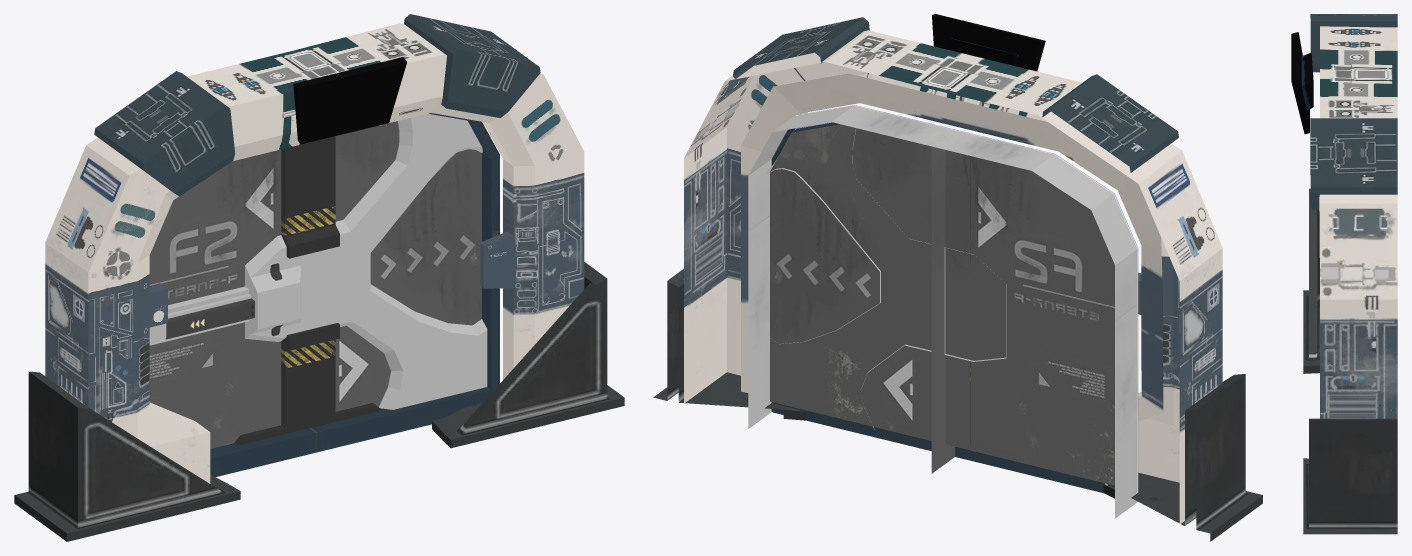
The picture shows the model from 3 angles, left to right: view 1: azimuth 30°, elevation 25°; view 2: azimuth 150°, elevation 25°; view 3: azimuth 270°, elevation 25°; orthographic projection. The views are drawn at different scales.
Visible parts, largest first — view 1: Object008_pillar_0, Object008_DOOR_0, Object008_LOCK1_0, Object008_Bottom_0, Object008_lock02_0, Object008_emissive_0; view 2: Object008_DOOR_0, Object008_pillar_0, Object008_Bottom_0, Object008_LOCK1_0, Object008_emissive_0; view 3: Object008_pillar_0, Object008_Bottom_0, Object008_LOCK1_0, Object008_emissive_0.
Boxes of the visible parts, x1=… form: Object008_pillar_0: x1=45, y1=23, x2=584, y2=483; Object008_DOOR_0: x1=149, y1=113, x2=499, y2=476; Object008_LOCK1_0: x1=94, y1=14, x2=540, y2=409; Object008_Bottom_0: x1=14, y1=262, x2=624, y2=541; Object008_lock02_0: x1=234, y1=136, x2=382, y2=445; Object008_emissive_0: x1=293, y1=57, x2=406, y2=144; Object008_DOOR_0: x1=748, y1=105, x2=1138, y2=518; Object008_pillar_0: x1=684, y1=30, x2=1222, y2=524; Object008_Bottom_0: x1=653, y1=269, x2=1262, y2=541; Object008_LOCK1_0: x1=733, y1=17, x2=1178, y2=429; Object008_emissive_0: x1=932, y1=14, x2=1045, y2=71; Object008_pillar_0: x1=1319, y1=26, x2=1397, y2=418; Object008_Bottom_0: x1=1303, y1=188, x2=1397, y2=534; Object008_LOCK1_0: x1=1310, y1=14, x2=1397, y2=209; Object008_emissive_0: x1=1291, y1=32, x2=1313, y2=134.
Size of the model in its own units: 221 by 154 by 40.63.
Materials: 6 (6 with a texture image).
